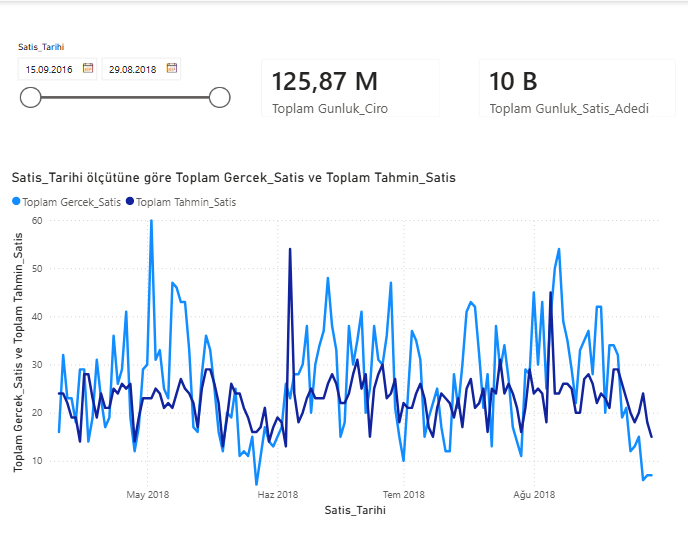

Layout of this report page (visuals, bound fields, positions):
{"tool":"powerbi","page":{"name":"1. sayfa","canvas":[1280,720],"ordinal":0},"visuals":[{"type":"slicer","fields":{"Values":["v_DailySupplyChainForecast.Satis_Tarihi"]},"box":[19.7,43.9,278.5,130.1],"z":0},{"type":"lineChart","fields":{"Category":["Olist_Model_Predictions.Satis_Tarihi"],"Y":["Sum(Olist_Model_Predictions.Gercek_Satis)","Sum(Olist_Model_Predictions.Tahmin_Satis)"]},"box":[19.7,202.8,811.2,426.8],"z":1000},{"type":"cardVisual","fields":{"Data":["Sum(v_DailySupplyChainForecast.Gunluk_Ciro)"]},"box":[310.2,53,251.2,105.9],"z":1001},{"type":"cardVisual","fields":{"Data":["Sum(v_DailySupplyChainForecast.Gunluk_Satis_Adedi)"]},"box":[573.6,53,273.9,105.9],"z":1002}]}

Visuals, with their boxes on the page's 1280x720 design canvas (x1, y1, x2, y2). These are canvas units, not pixel positions in the 688x537 screenshot, which may show the page scaled, cropped or inside an application window:
slicer - v_DailySupplyChainForecast.Satis_Tarihi: [20, 44, 298, 174]
lineChart - Olist_Model_Predictions.Satis_Tarihi x Sum(Olist_Model_Predictions.Gercek_Satis): [20, 203, 831, 630]
cardVisual - Sum(v_DailySupplyChainForecast.Gunluk_Ciro): [310, 53, 561, 159]
cardVisual - Sum(v_DailySupplyChainForecast.Gunluk_Satis_Adedi): [574, 53, 848, 159]
